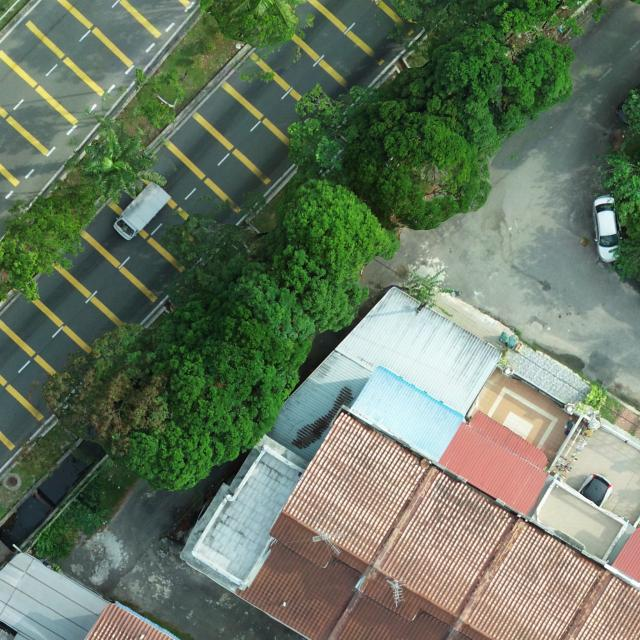tree: (43, 321, 279, 493), (386, 22, 579, 166), (164, 257, 318, 404), (264, 179, 402, 336), (339, 101, 497, 232), (0, 185, 101, 302), (75, 114, 168, 202), (198, 0, 298, 47)
